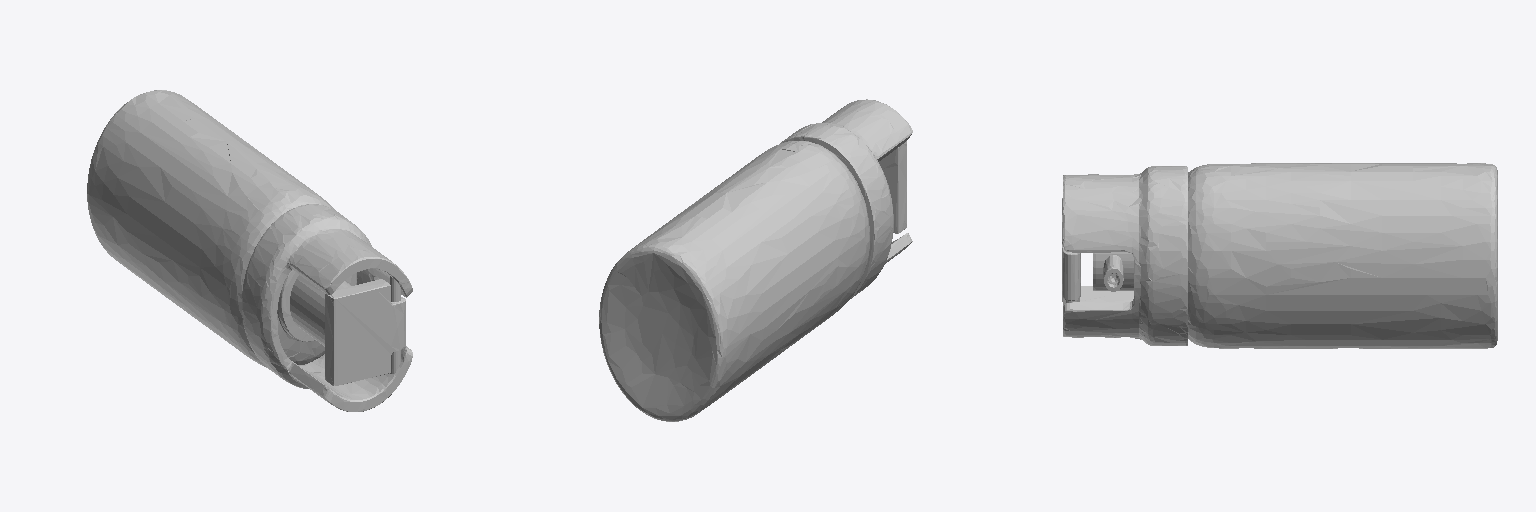
File: tinker.obj
3 renders of one model, left to right at view 1: azimuth 30°, elevation 25°; view 2: azimuth 150°, elevation 25°; view 3: azimuth 270°, elevation 25°, orthographic.
Visible parts, largest first — view 1: obj_0.055; view 2: obj_0.055; view 3: obj_0.055.
Part boxes in pixels (left/top/right/bottom): obj_0.055: left=87, top=90, right=412, bottom=411; obj_0.055: left=599, top=99, right=912, bottom=421; obj_0.055: left=1062, top=163, right=1497, bottom=348.
Bounding box in the file's own units: 6 × 8 × 18.